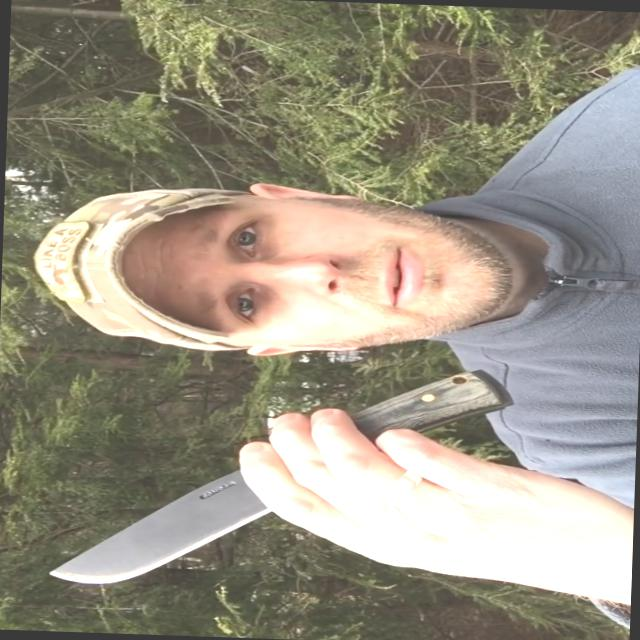knife: (36, 395, 381, 600)
